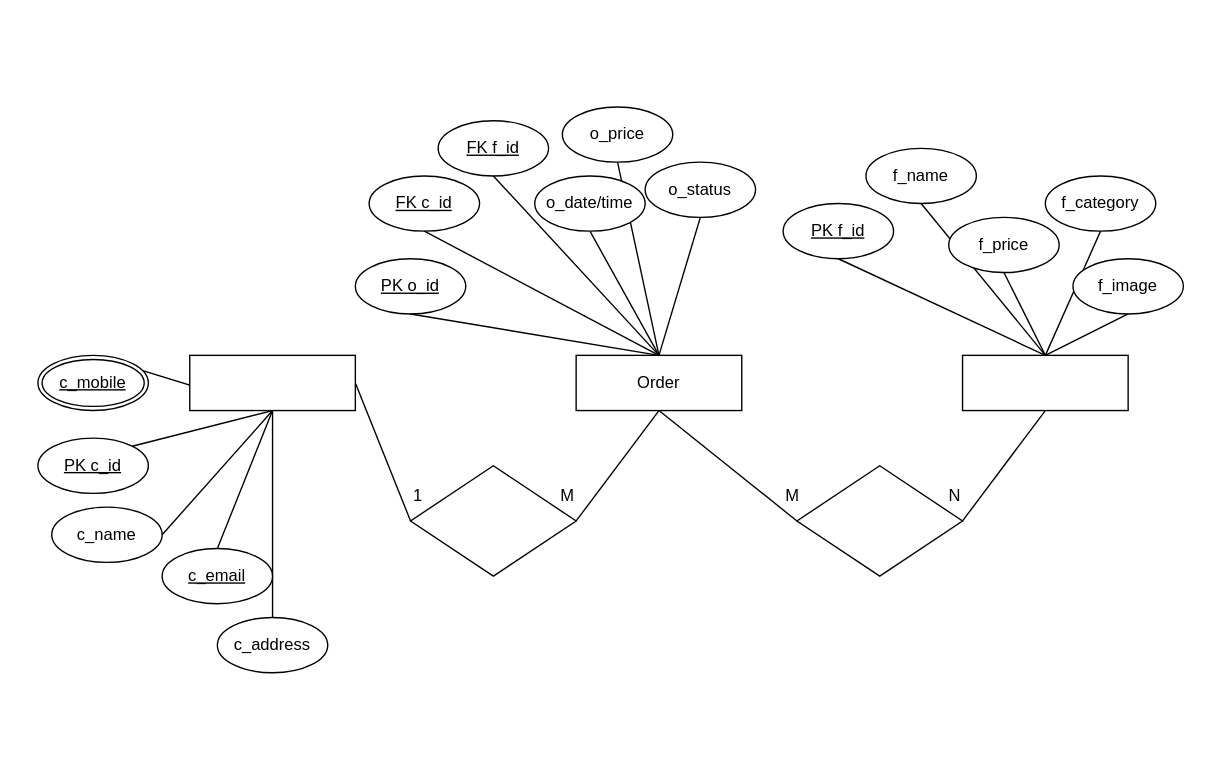
Some shapes in this 1220 by 765 pixel diagram are drawn without their labels. Each missing label, with the centre of its shape:
"Customer" belongs at (271,382).
"Food" belongs at (1044,382).
"gives" belongs at (492,520).
"has" belongs at (879,520).
